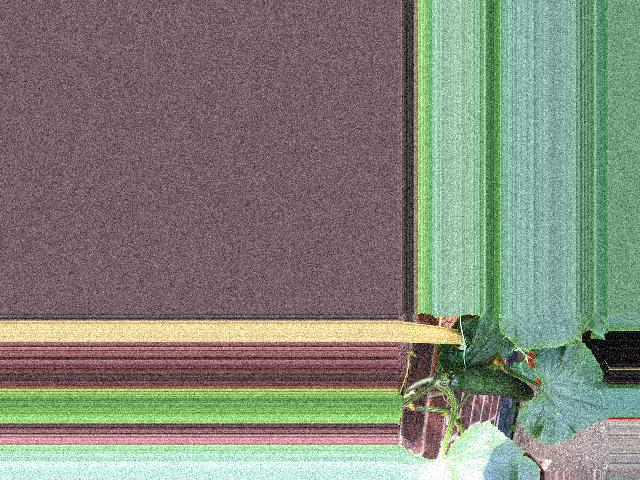cucumber: (447, 368, 533, 402)
